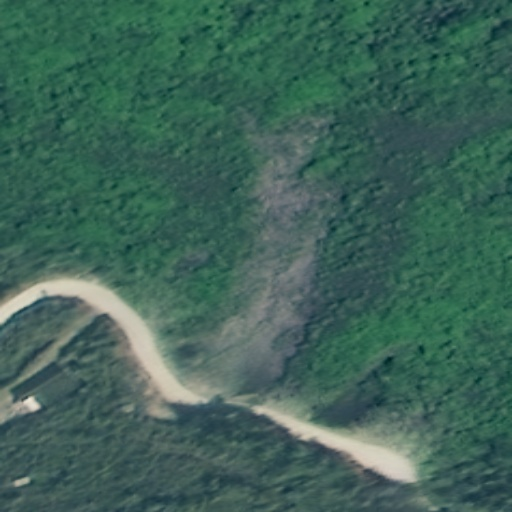landslide: (204, 117, 339, 395)
